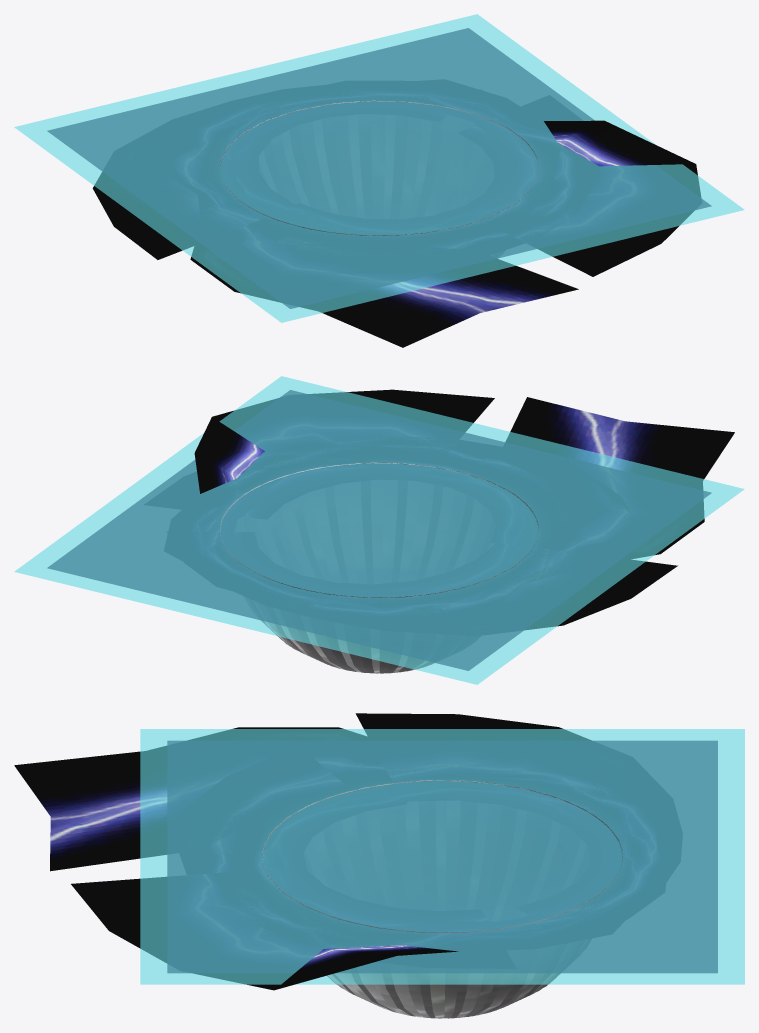
3 views of the same model, one above another, from view 1: azimuth 30°, elevation 25°; view 2: azimuth 150°, elevation 25°; view 3: azimuth 270°, elevation 25° (orthographic). The views are drawn at different scales.
Parts seen in each view (by area): view 1: object0029_Plane, object0128_Plane, "object0108_Editable Mesh", "object0007_Editable Mesh", "object0019_Editable Mesh"; view 2: object0029_Plane, object0128_Plane, "object0108_Editable Mesh", "object0007_Editable Mesh", "object0019_Editable Mesh", object0074_PolyMesh, "object0086_Editable Mesh", "object0061_Editable Poly"; view 3: object0029_Plane, object0128_Plane, "object0108_Editable Mesh", "object0007_Editable Mesh", "object0019_Editable Mesh", object0074_PolyMesh, "object0086_Editable Mesh", "object0061_Editable Poly".
Boxes of the visible parts, bbox=[...] form: object0029_Plane: bbox=[14, 14, 744, 322]; object0128_Plane: bbox=[48, 28, 710, 308]; "object0108_Editable Mesh": bbox=[190, 244, 578, 347]; "object0007_Editable Mesh": bbox=[538, 120, 700, 276]; "object0019_Editable Mesh": bbox=[92, 172, 199, 259]; object0029_Plane: bbox=[14, 376, 744, 684]; object0128_Plane: bbox=[48, 390, 710, 670]; "object0108_Editable Mesh": bbox=[505, 397, 734, 560]; "object0007_Editable Mesh": bbox=[194, 389, 494, 493]; "object0019_Editable Mesh": bbox=[525, 559, 677, 629]; object0074_PolyMesh: bbox=[220, 462, 538, 673]; "object0086_Editable Mesh": bbox=[219, 463, 539, 673]; "object0061_Editable Poly": bbox=[220, 462, 538, 673]; object0029_Plane: bbox=[140, 729, 744, 984]; object0128_Plane: bbox=[167, 741, 717, 972]; "object0108_Editable Mesh": bbox=[14, 727, 372, 871]; "object0007_Editable Mesh": bbox=[71, 877, 458, 990]; "object0019_Editable Mesh": bbox=[355, 713, 591, 740]; object0074_PolyMesh: bbox=[262, 780, 622, 1018]; "object0086_Editable Mesh": bbox=[262, 780, 622, 1018]; "object0061_Editable Poly": bbox=[262, 780, 622, 1018].
Bounding box in the file's own units: 0.8476 × 0.2268 × 0.9452.
